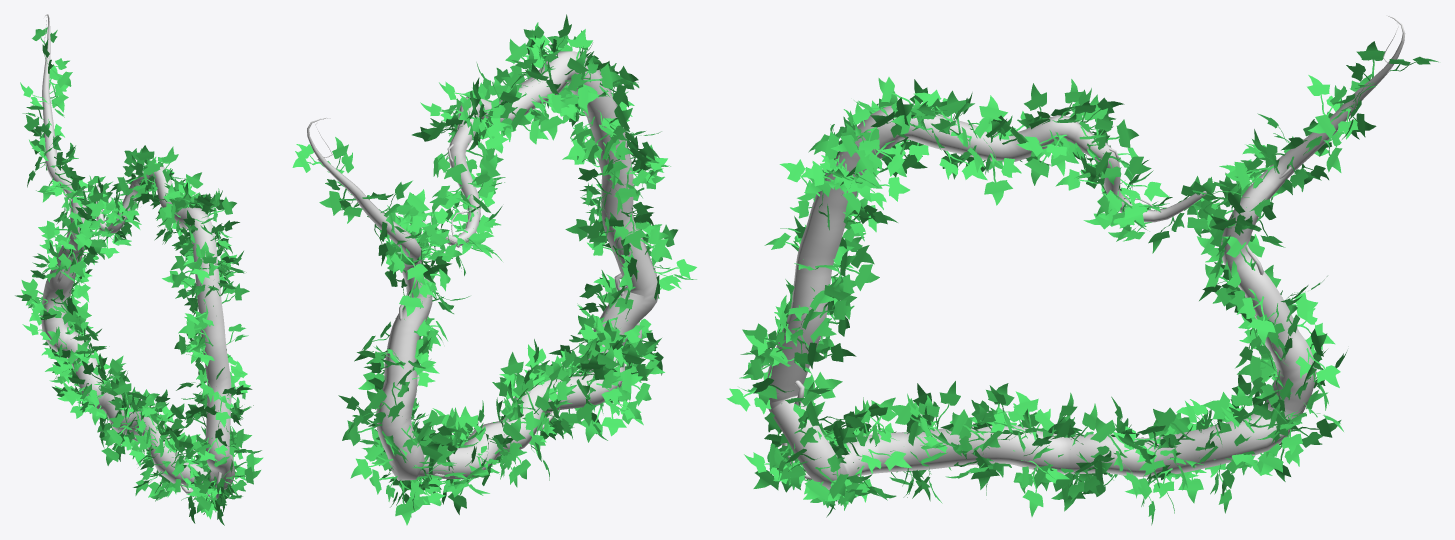
The model's file is VineDeco7.fbx.
3 views of the same model, side by side, from view 1: azimuth 30°, elevation 25°; view 2: azimuth 150°, elevation 25°; view 3: azimuth 270°, elevation 25° (orthographic). The views are drawn at different scales.
Visible parts, largest first — view 1: BézierCurve.020; view 2: BézierCurve.020; view 3: BézierCurve.020.
Part boxes in pixels (x1,y1,x2,y2): BézierCurve.020: [15, 14, 263, 525]; BézierCurve.020: [292, 14, 696, 525]; BézierCurve.020: [726, 15, 1438, 525].
Bounding box in the file's own units: 187 × 585 × 721.
